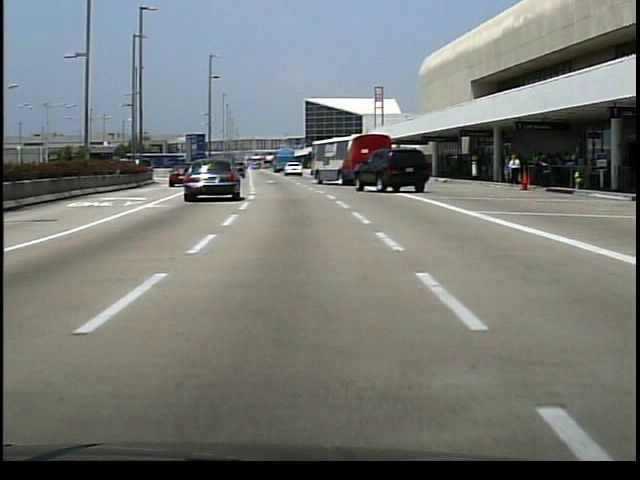person: (505, 153, 521, 188)
